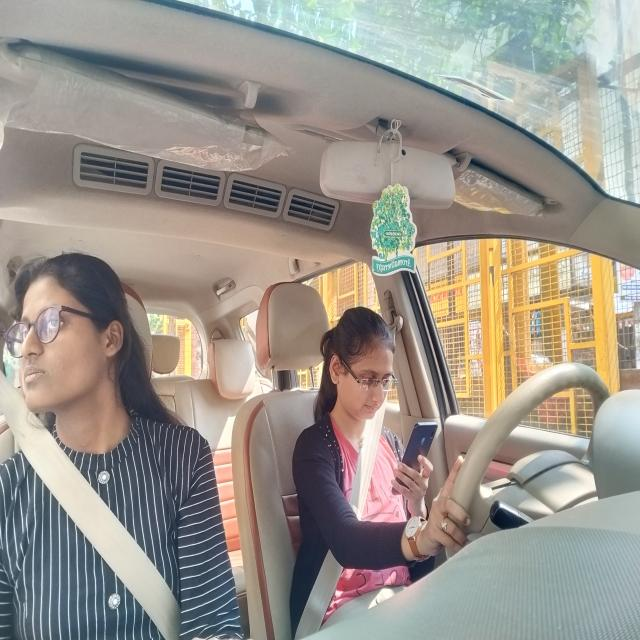mobile: (394, 414, 444, 501)
person: (12, 253, 137, 410), (325, 305, 401, 426)
